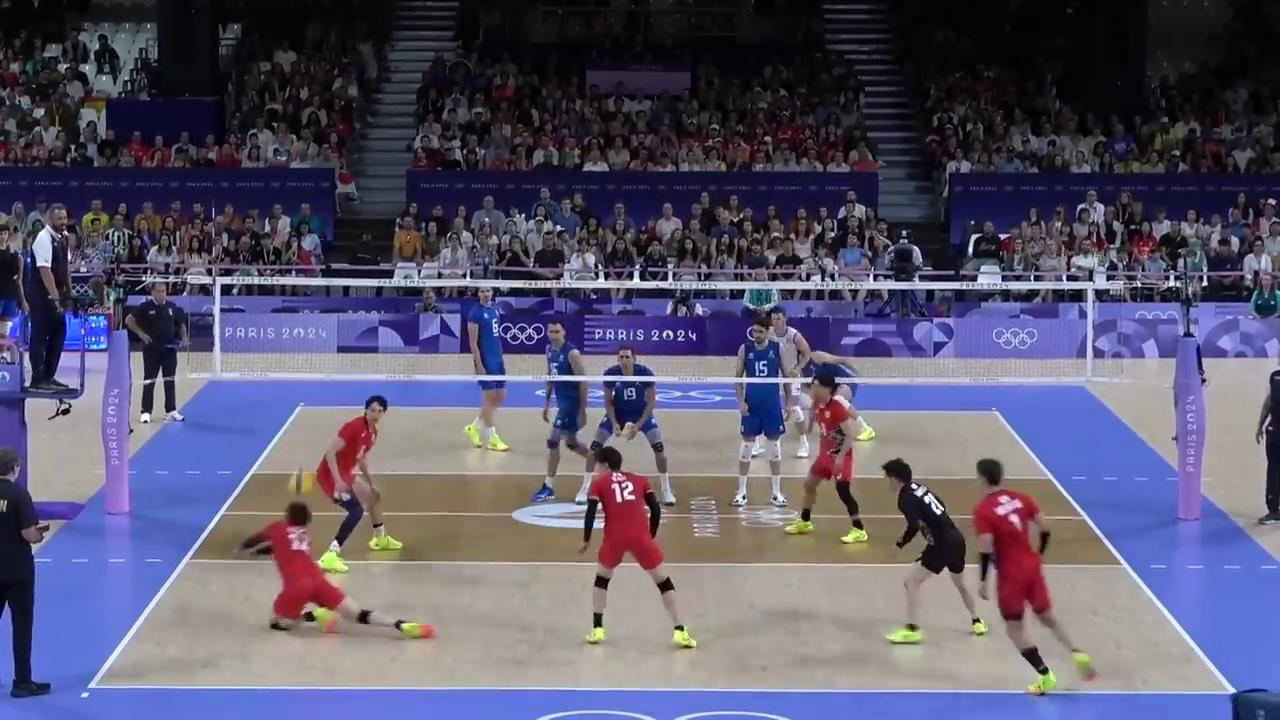ball: (288, 471, 316, 496)
